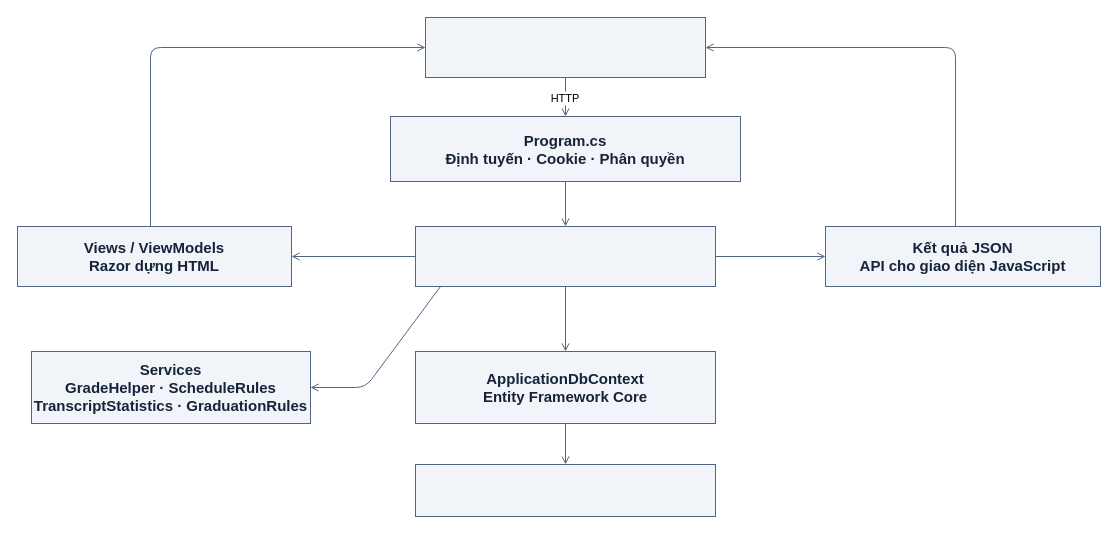
The diagram is 1118 pixels wide and 534 high, and some of its shapes have lost their labels. Here are the shapes that lost their labels. From the top down, the centre of each, then its label:
At pixel 565 47: "Trình duyệt HTML, CSS, JavaScript".
At pixel 565 256: "Controllers Tiếp nhận và điều phối yêu cầu".
At pixel 565 490: "SQL Server".
